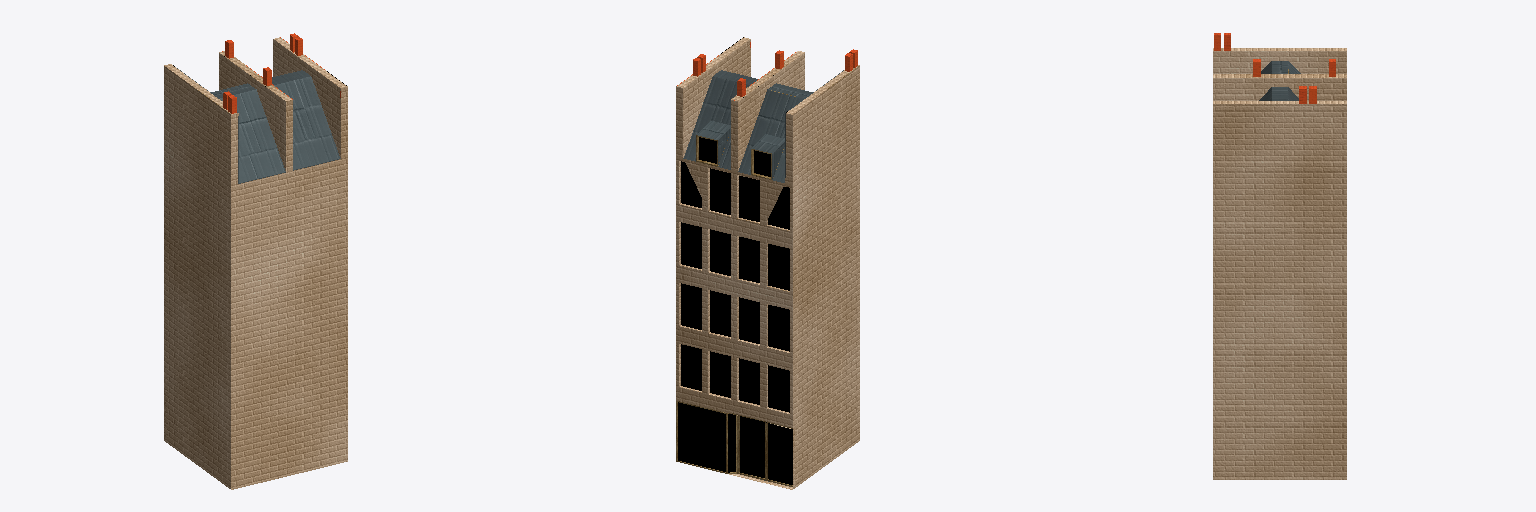
3 views of the same model, side by side, from view 1: azimuth 30°, elevation 25°; view 2: azimuth 150°, elevation 25°; view 3: azimuth 270°, elevation 25° (orthographic).
Parts seen in each view (by area): view 1: Cube1; view 2: Cube1; view 3: Cube1.
Boxes of the visible parts, x1=… form: Cube1: x1=164, y1=33, x2=347, y2=489; Cube1: x1=676, y1=37, x2=859, y2=489; Cube1: x1=1213, y1=33, x2=1346, y2=479.
Size of the model in its own units: 8 by 25.63 by 8.
Materials: 1 (1 with a texture image).